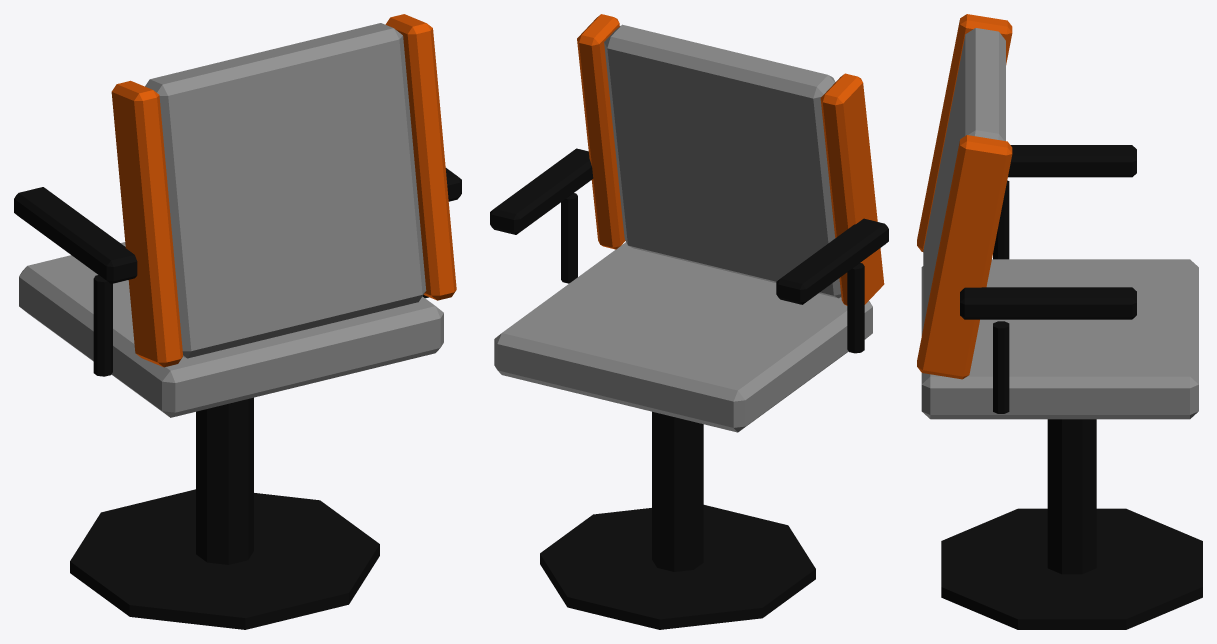
The model's file is operator_seat.glb.
The picture shows the model from 3 angles, left to right: view 1: azimuth 30°, elevation 25°; view 2: azimuth 150°, elevation 25°; view 3: azimuth 270°, elevation 25°; orthographic projection. The views are drawn at different scales.
Parts seen in each view (by area): view 1: OperatorSeat; view 2: OperatorSeat; view 3: OperatorSeat.
Part boxes in pixels (<box>): OperatorSeat: <box>14,14,461,629</box>; OperatorSeat: <box>490,14,888,629</box>; OperatorSeat: <box>917,14,1202,629</box>.
Bounding box in the file's own units: 0.63 × 0.9294 × 0.4843.
